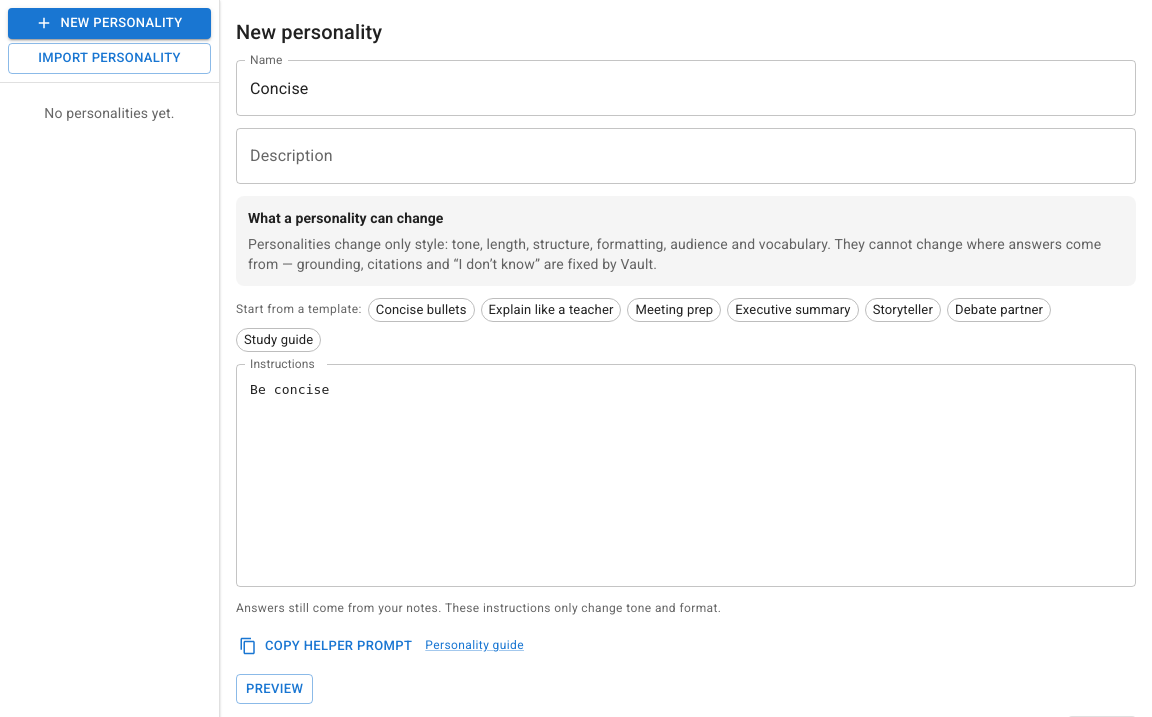
PromptsView › previews the draft against the notes
The width and height of the screenshot is (1152, 717).
Click the button "Preview".
click(275, 689)  # box [236, 674, 313, 704]
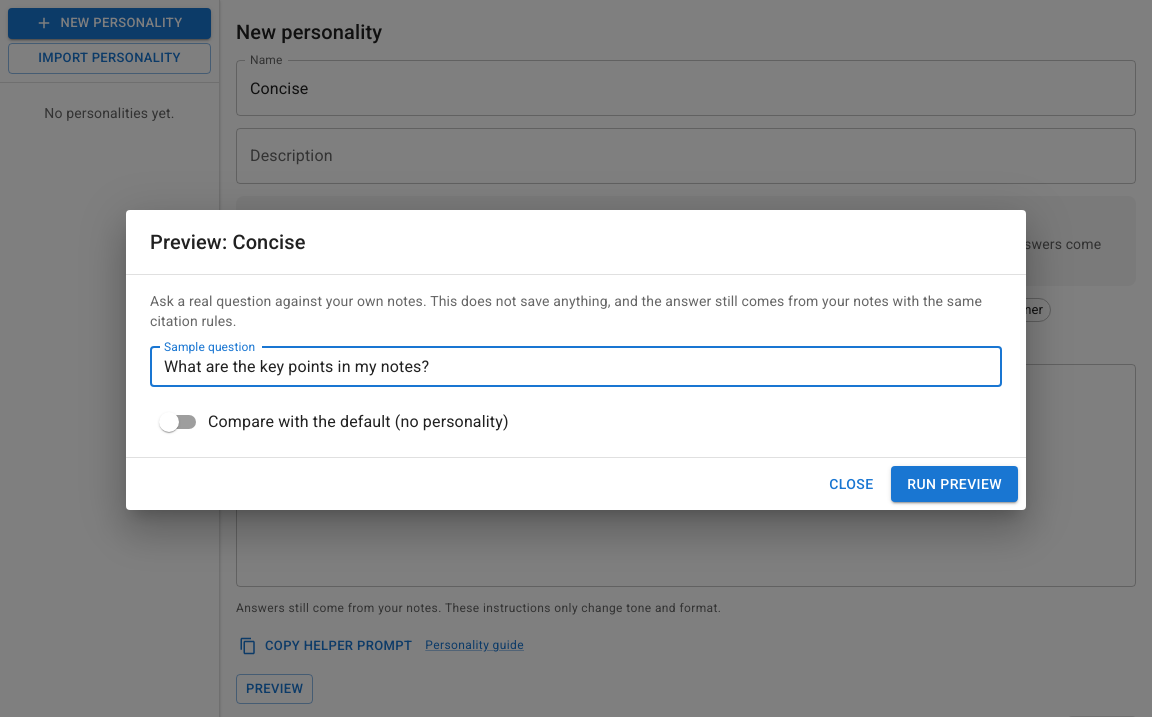
Check: the heading "Preview: Concise" is shown, box [150, 230, 306, 254]
Click the button "Run preview".
click(955, 484)  # box [891, 466, 1018, 502]
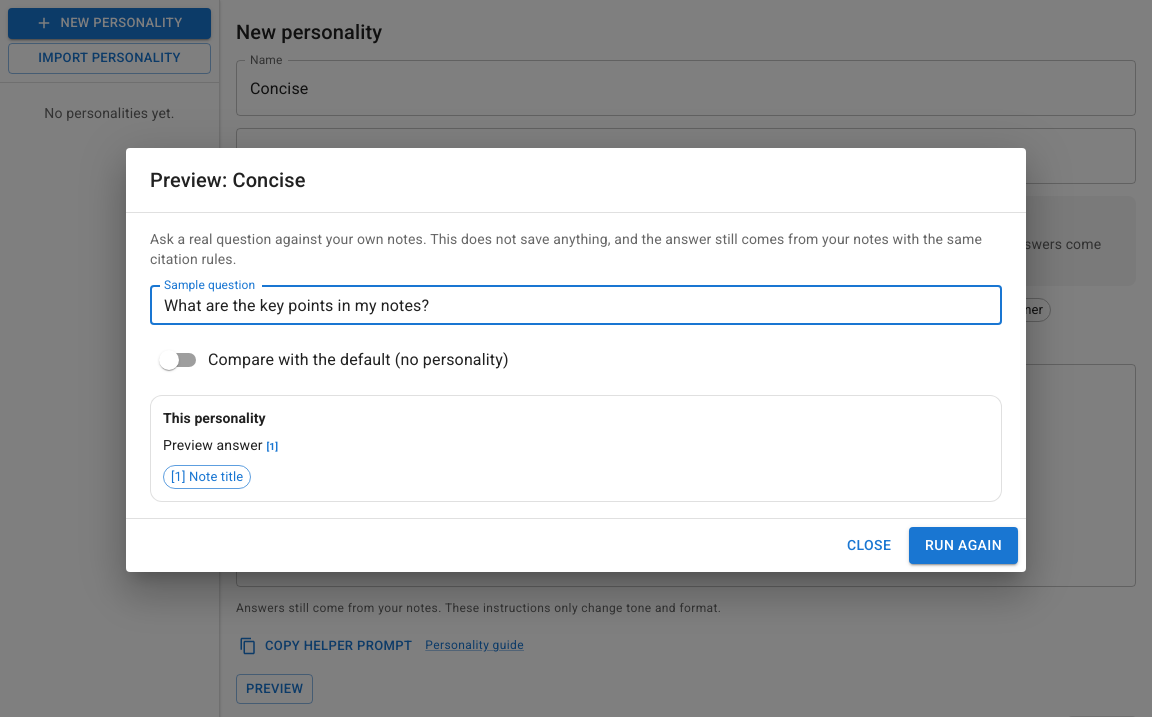
Check: the text "Preview answer [1]" is shown, box [163, 437, 278, 453]
